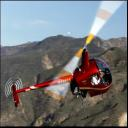helicopter: (7, 18, 126, 120)
